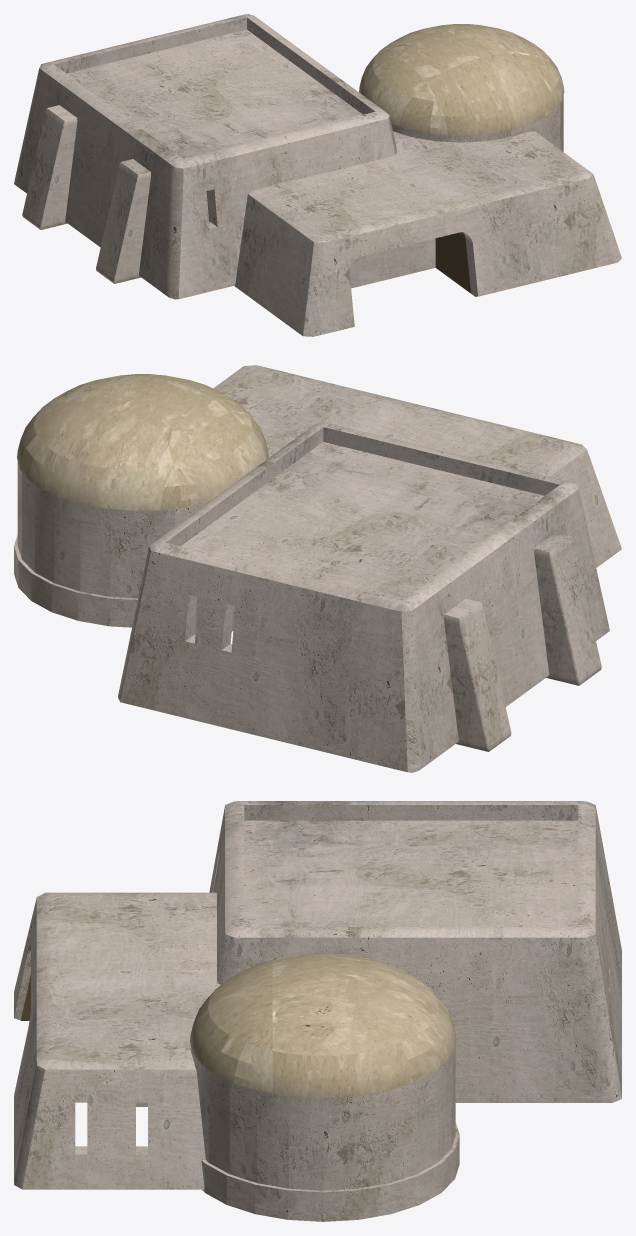
File: Edificio3.FBX
3 views of the same model, one above another, from view 1: azimuth 30°, elevation 25°; view 2: azimuth 150°, elevation 25°; view 3: azimuth 270°, elevation 25° (orthographic). The views are drawn at different scales.
Visible parts, largest first — view 1: Rectangle3, Rectangle0, Sphere01, Line01, Line02, Rectangle2, Cylinder01, Rectangle1; view 2: Rectangle3, Sphere01, Rectangle0, Cylinder01, Line01, Line02, Cylinder02; view 3: Rectangle3, Rectangle0, Sphere01, Cylinder01, Cylinder02.
Part boxes in pixels (box(x1,y1,x2,y2)): Rectangle3: box(14, 14, 396, 299); Rectangle0: box(206, 131, 621, 336); Sphere01: box(359, 24, 564, 135); Line01: box(22, 105, 77, 229); Line02: box(96, 159, 150, 283); Rectangle2: box(349, 238, 435, 288); Cylinder01: box(391, 95, 563, 151); Rectangle1: box(435, 232, 475, 296); Rectangle3: box(118, 422, 609, 772); Sphere01: box(17, 374, 268, 510); Rectangle0: box(213, 365, 621, 567); Cylinder01: box(17, 461, 205, 598); Line01: box(443, 598, 511, 751); Line02: box(534, 532, 601, 685); Cylinder02: box(14, 535, 137, 627); Rectangle3: box(209, 801, 621, 1102); Rectangle0: box(14, 892, 220, 1189); Sphere01: box(190, 953, 456, 1097); Cylinder01: box(190, 1045, 455, 1190); Cylinder02: box(201, 1122, 459, 1221).
Size of what is drawn, in the model's own units: 4114 by 1282 by 3692.
Materials: 3 (2 with a texture image).
